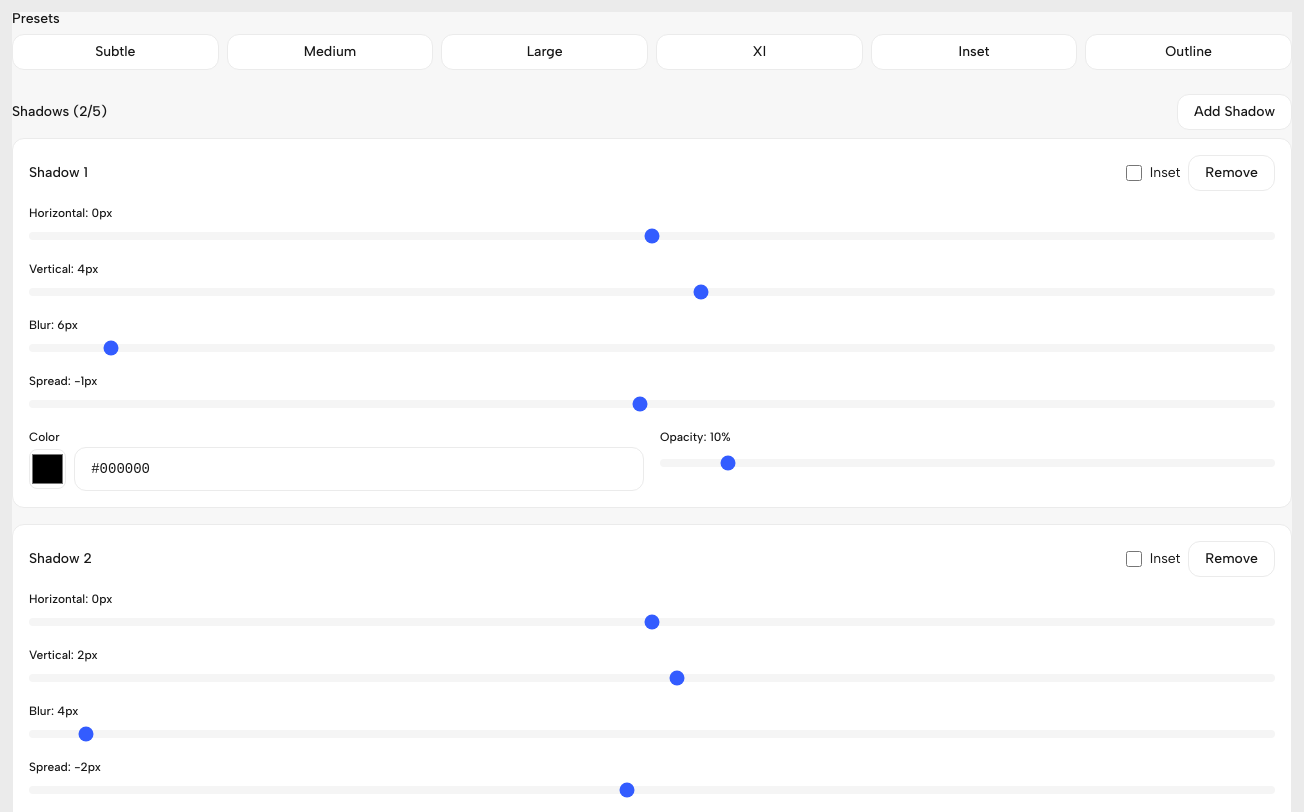
Test: BoxShadowGeneratorTool › limits shadows to 5 maximum
Click the button "Add Shadow" at (1234, 112), box 1177,94 -> 1292,130
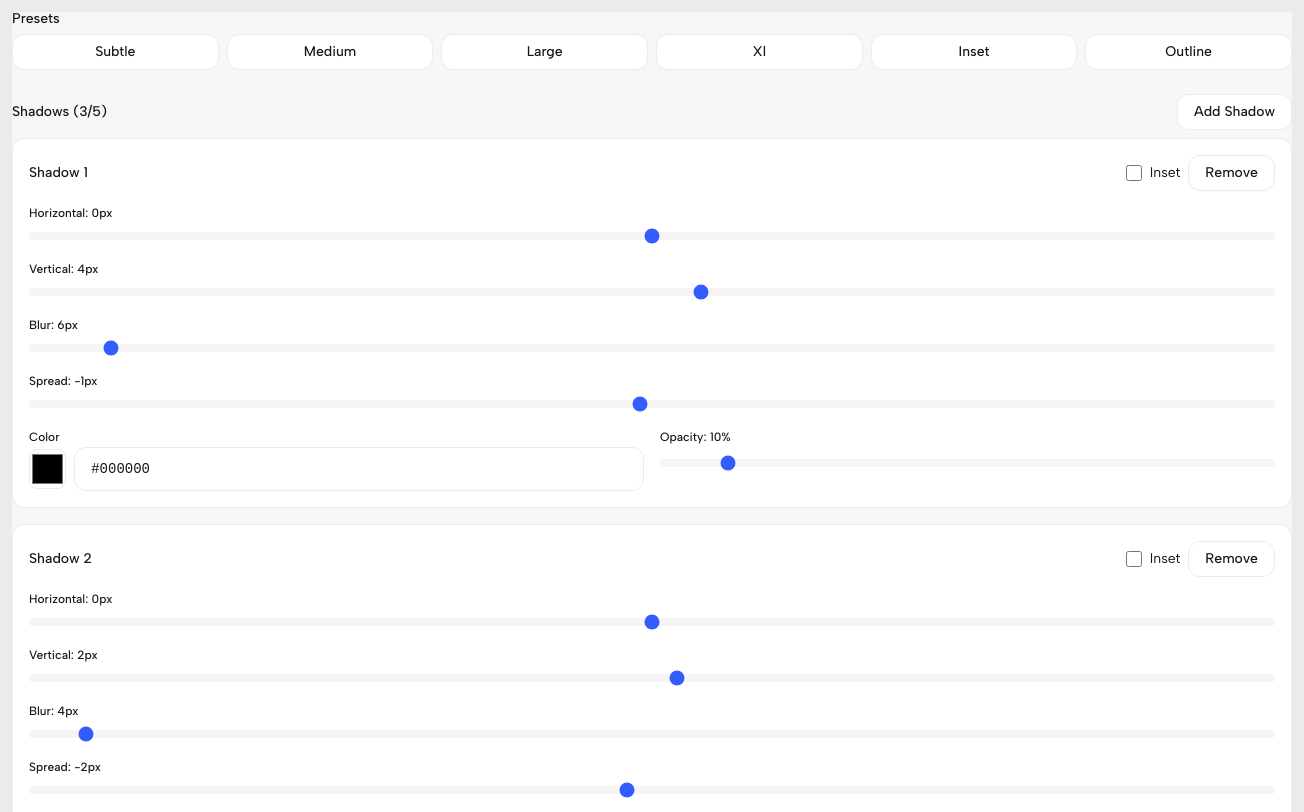
Click the button "Add Shadow" at (1234, 112), box 1177,94 -> 1292,130
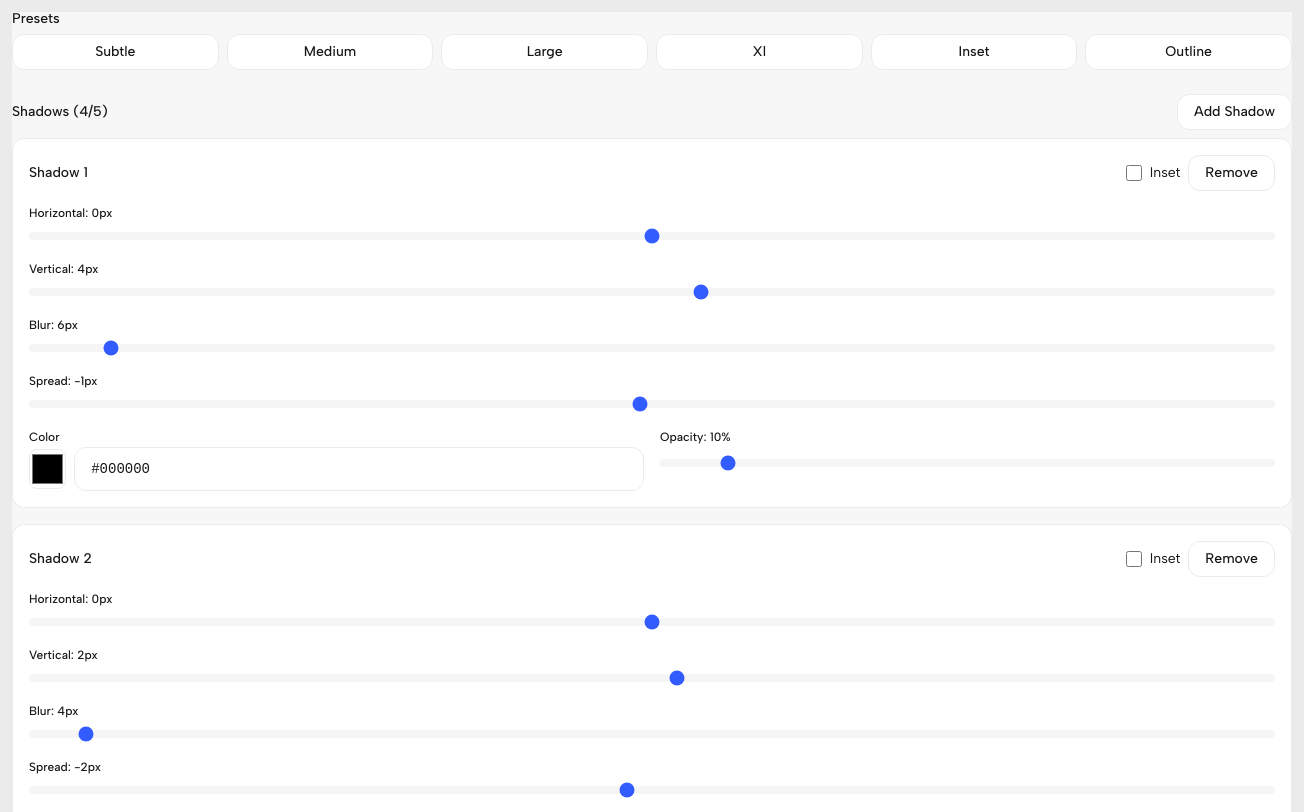
Click the button "Add Shadow" at (1234, 112), box 1177,94 -> 1292,130
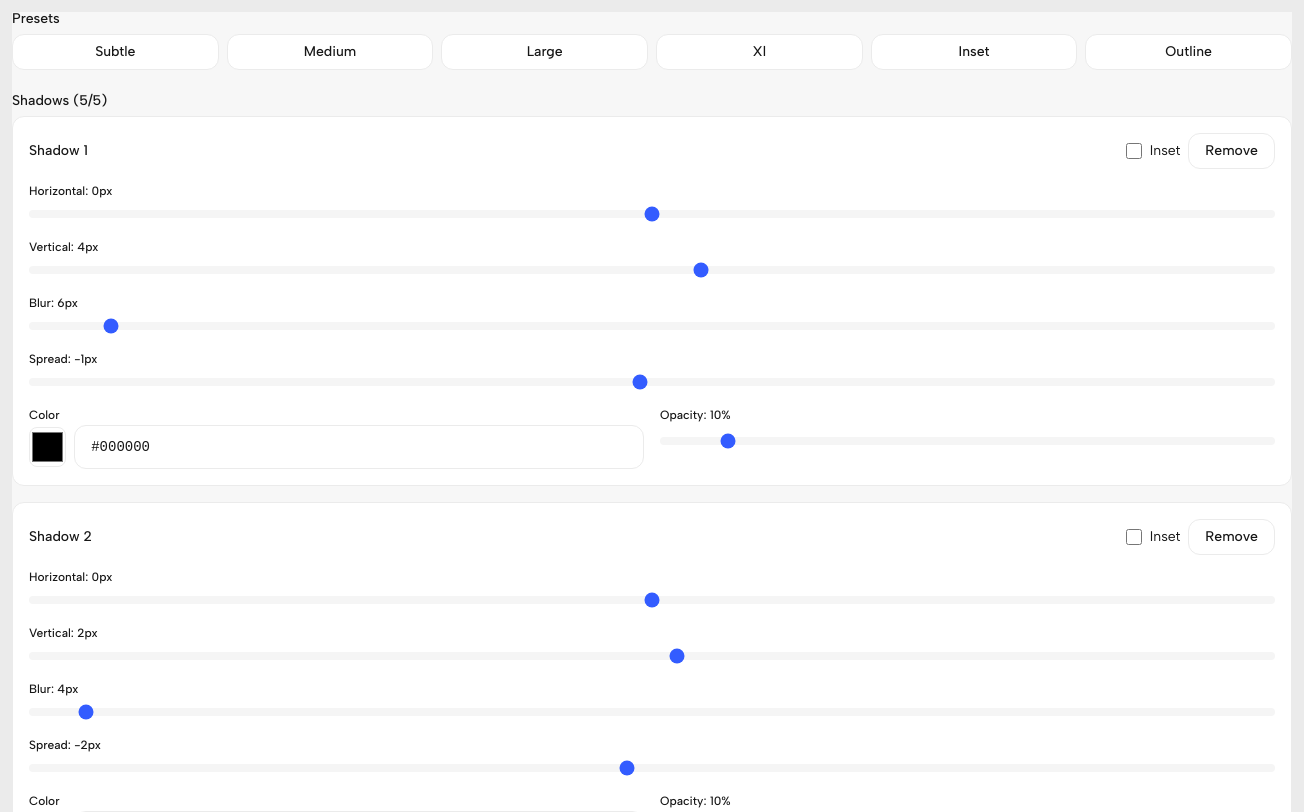
Result: the text "Shadows (5/5)" is shown at 12,94 -> 107,108
Result: the button "Add Shadow" is gone
